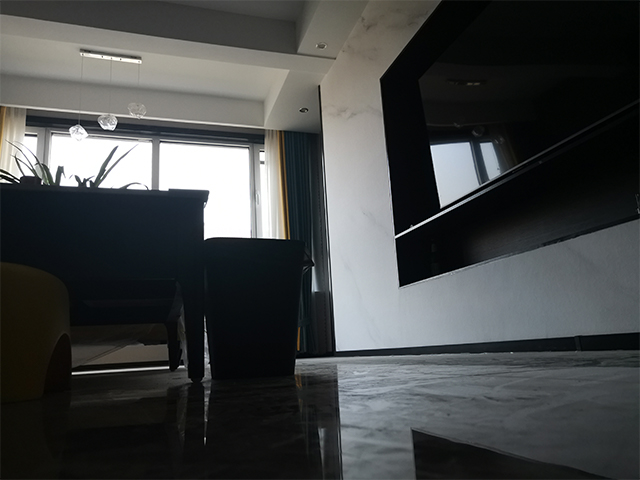curtain: (261, 128, 319, 357)
stool: (1, 260, 75, 407)
table: (1, 180, 212, 386)
trashcan: (200, 236, 308, 382)
